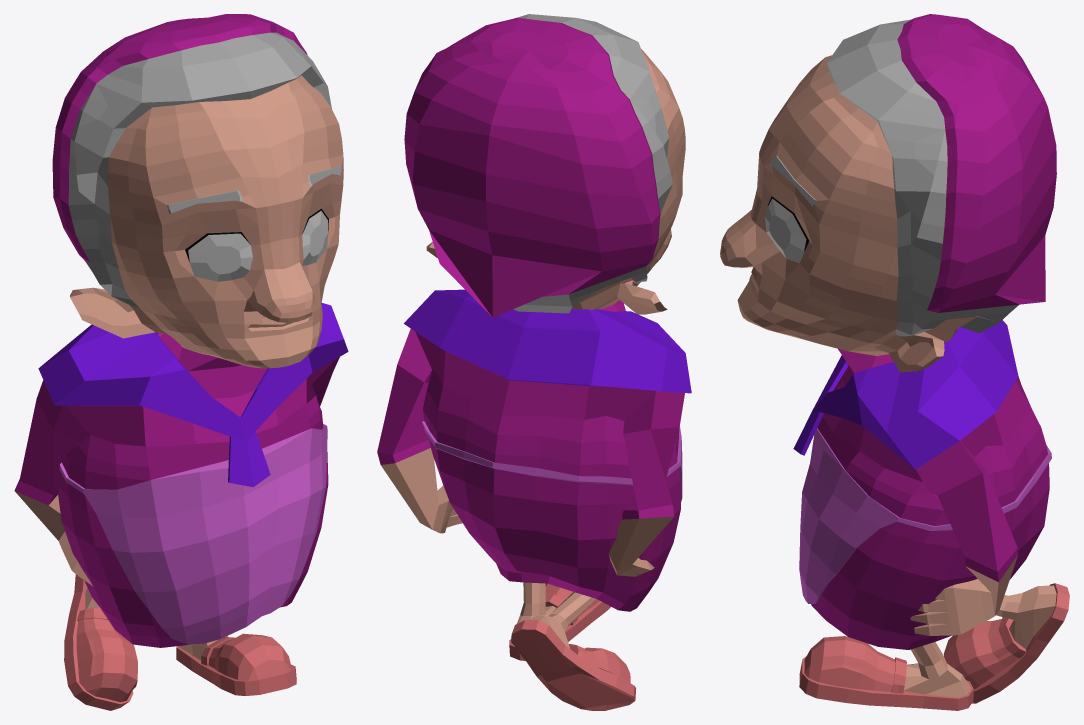
The model's file is babuszka_nowa.obj.
The picture shows the model from 3 angles, left to right: view 1: azimuth 30°, elevation 25°; view 2: azimuth 150°, elevation 25°; view 3: azimuth 270°, elevation 25°; orthographic projection. The views are drawn at different scales.
Parts seen in each view (by area): view 1: Cube; view 2: Cube; view 3: Cube.
Part boxes in pixels (x1,y1,x2,y2): Cube: (14,14,348,710); Cube: (377,14,691,710); Cube: (720,14,1069,710).
Size of the model in its own units: 6.42 by 13.66 by 6.19.
